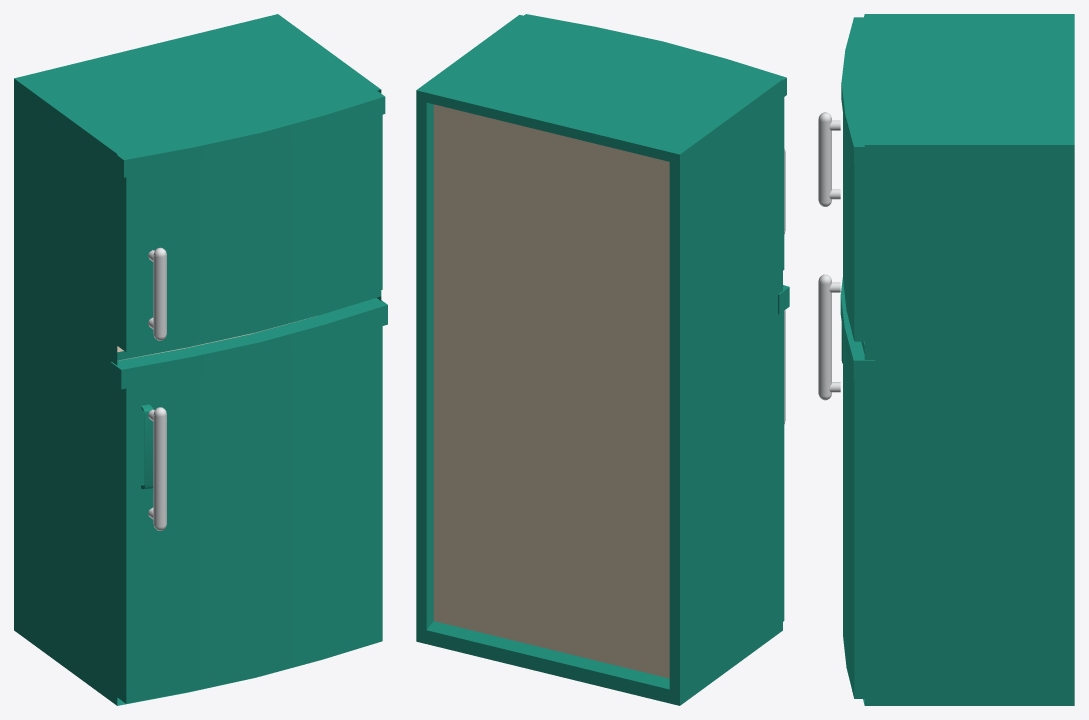
The model's file is fridge_a.glb.
3 views of the same model, side by side, from view 1: azimuth 30°, elevation 25°; view 2: azimuth 150°, elevation 25°; view 3: azimuth 270°, elevation 25° (orthographic).
Visible parts, largest first — view 1: body, door, door_top; view 2: body, door_top, door; view 3: body, door, door_top.
Boxes of the visible parts, <box> form: body: <box>14,14,387,705</box>; door: <box>117,326,382,703</box>; door_top: <box>117,91,385,352</box>; body: <box>416,15,789,705</box>; door_top: <box>524,14,786,233</box>; door: <box>783,310,785,621</box>; body: <box>840,14,1074,705</box>; door: <box>818,274,864,698</box>; door_top: <box>818,17,864,340</box>.
Size of the model in its own units: 0.91 by 1.8 by 0.745.
